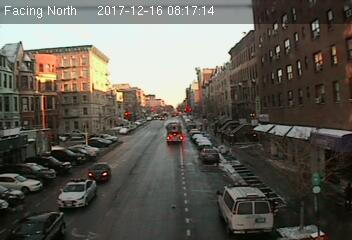car: (4, 212, 63, 240), (86, 162, 110, 179), (201, 148, 219, 161)
police: (215, 180, 274, 236), (55, 174, 98, 211)
